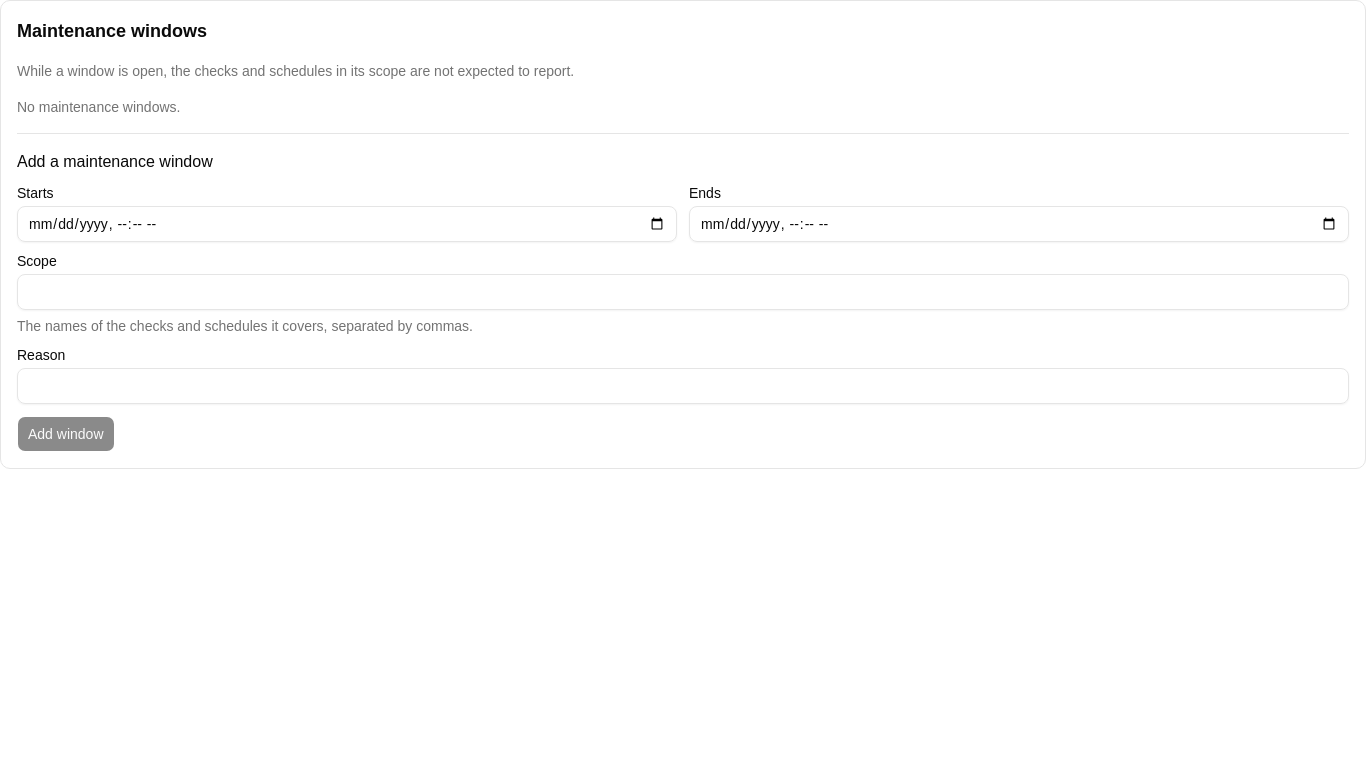
Test: MaintenanceSection › creates a window from the time range, scope and reason, and lists it
Check: the text "No maintenance windows." is shown, box top-left (17, 99), bottom-right (180, 115)
Check: the button "Add window" is disabled, box top-left (17, 416), bottom-right (114, 452)
Type "2026-11-05T08:00" into the field labelled "Starts" at (347, 224), box top-left (17, 206), bottom-right (677, 242)
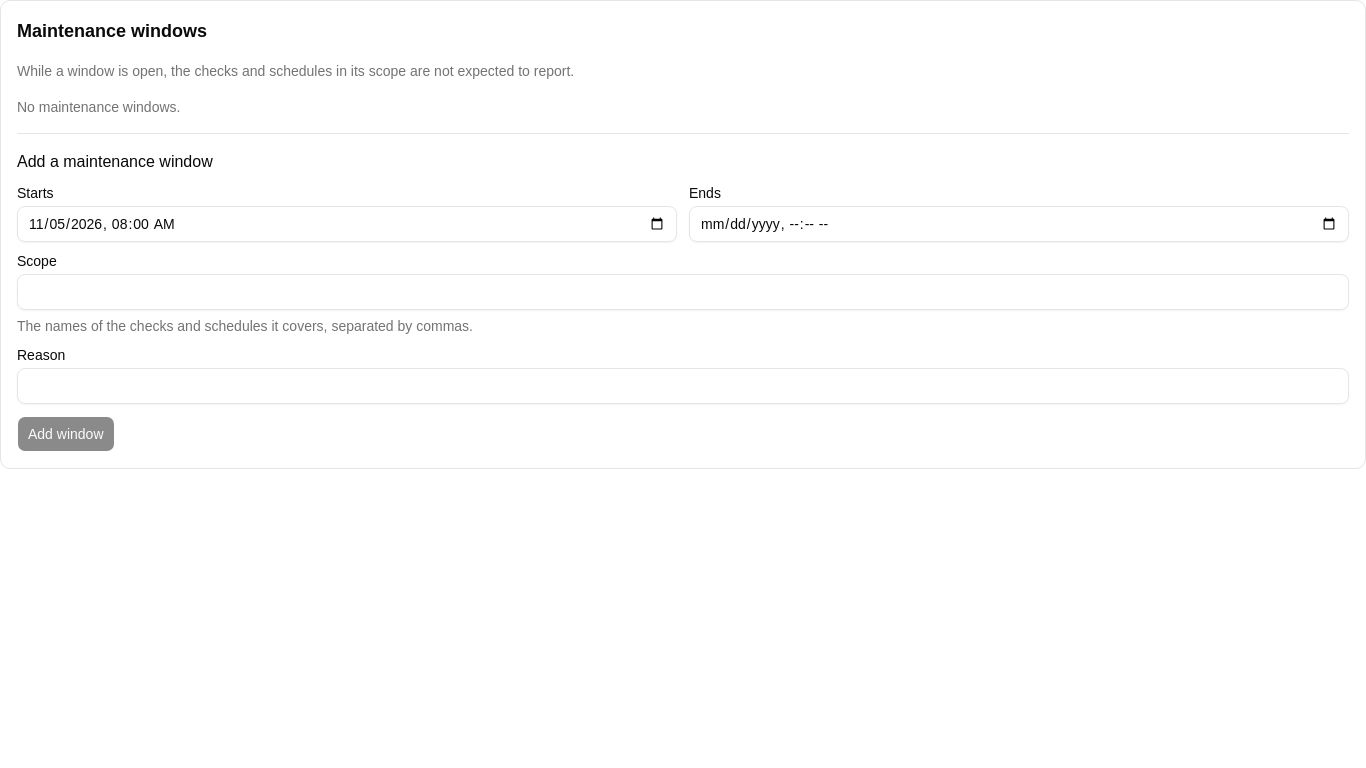
Type "2026-11-05T10:00" into the field labelled "Ends" at (1019, 224), box top-left (689, 206), bottom-right (1349, 242)
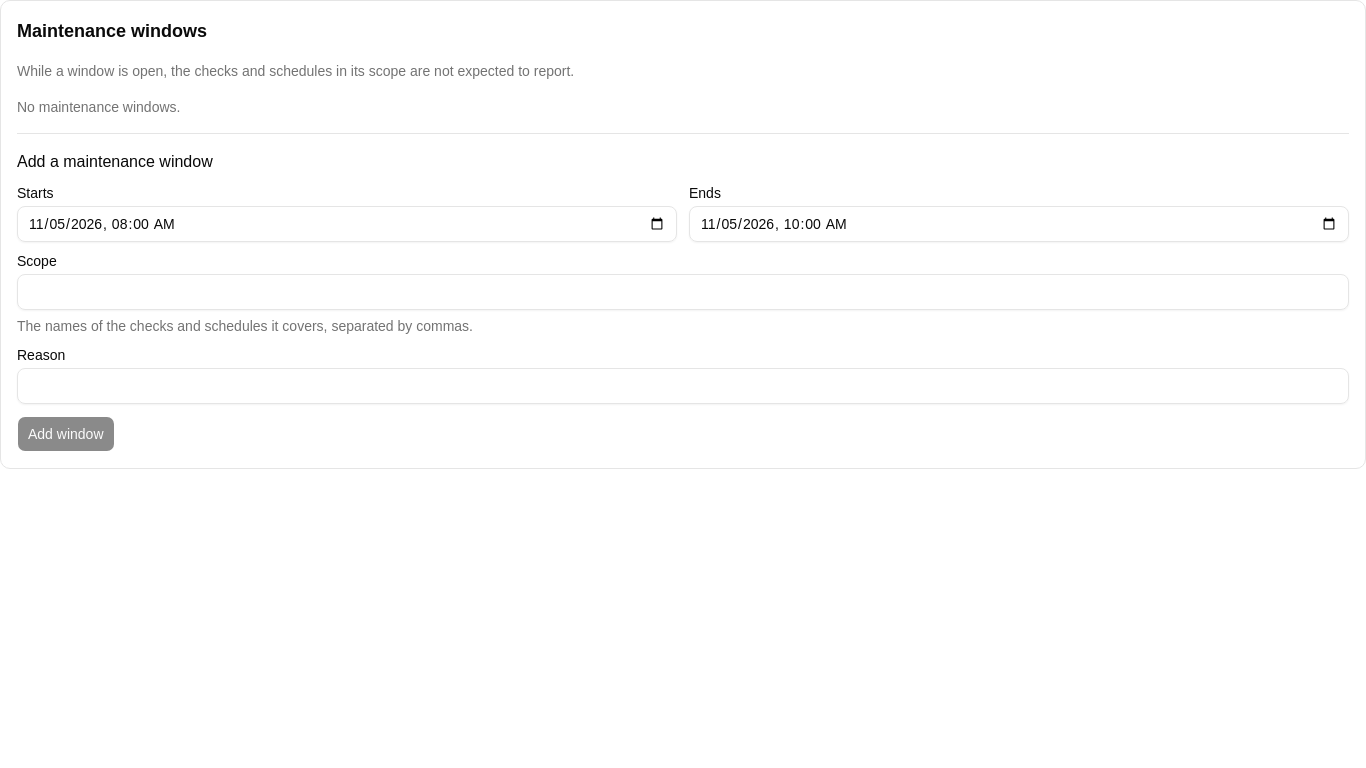
Type "a, b" into the field labelled "Scope" at (683, 292), box top-left (17, 274), bottom-right (1349, 310)
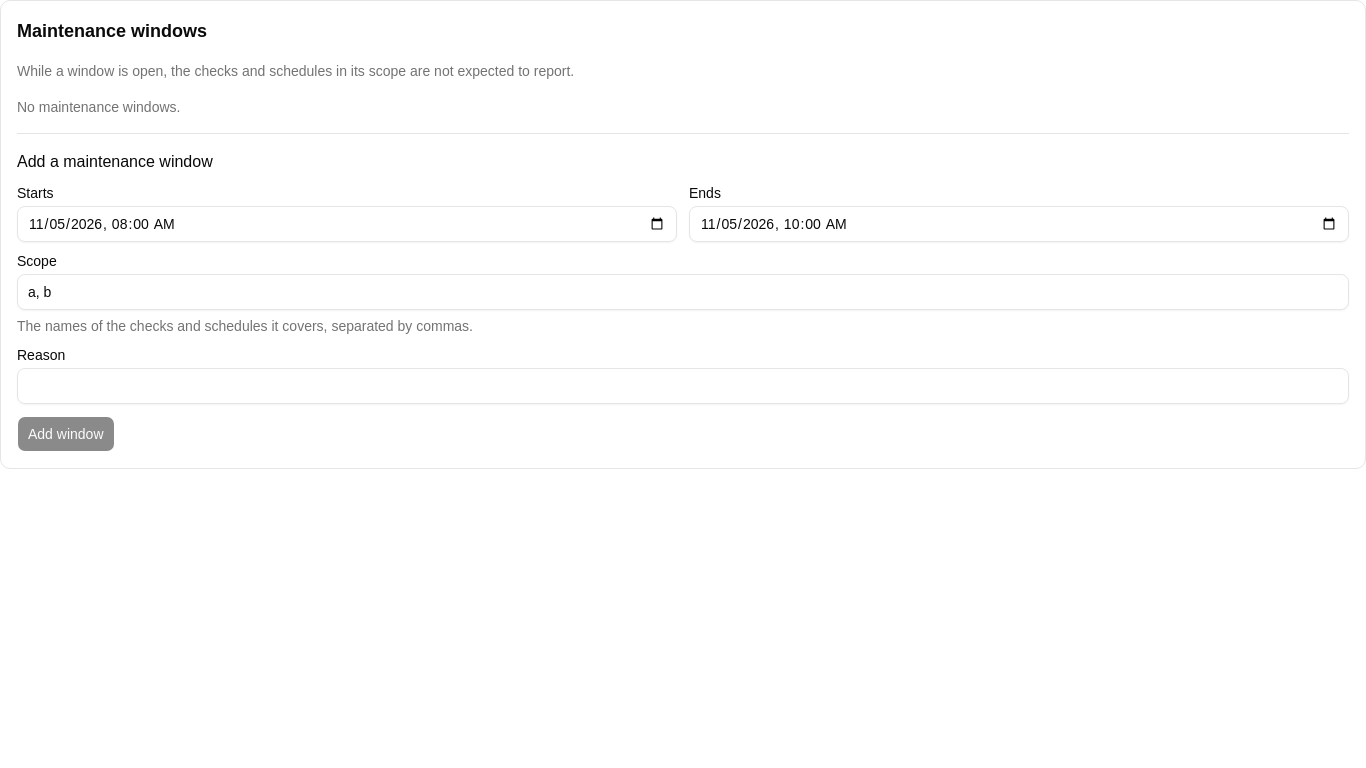
Type "Rotate keys" into the field labelled "Reason" at (683, 386), box top-left (17, 368), bottom-right (1349, 404)
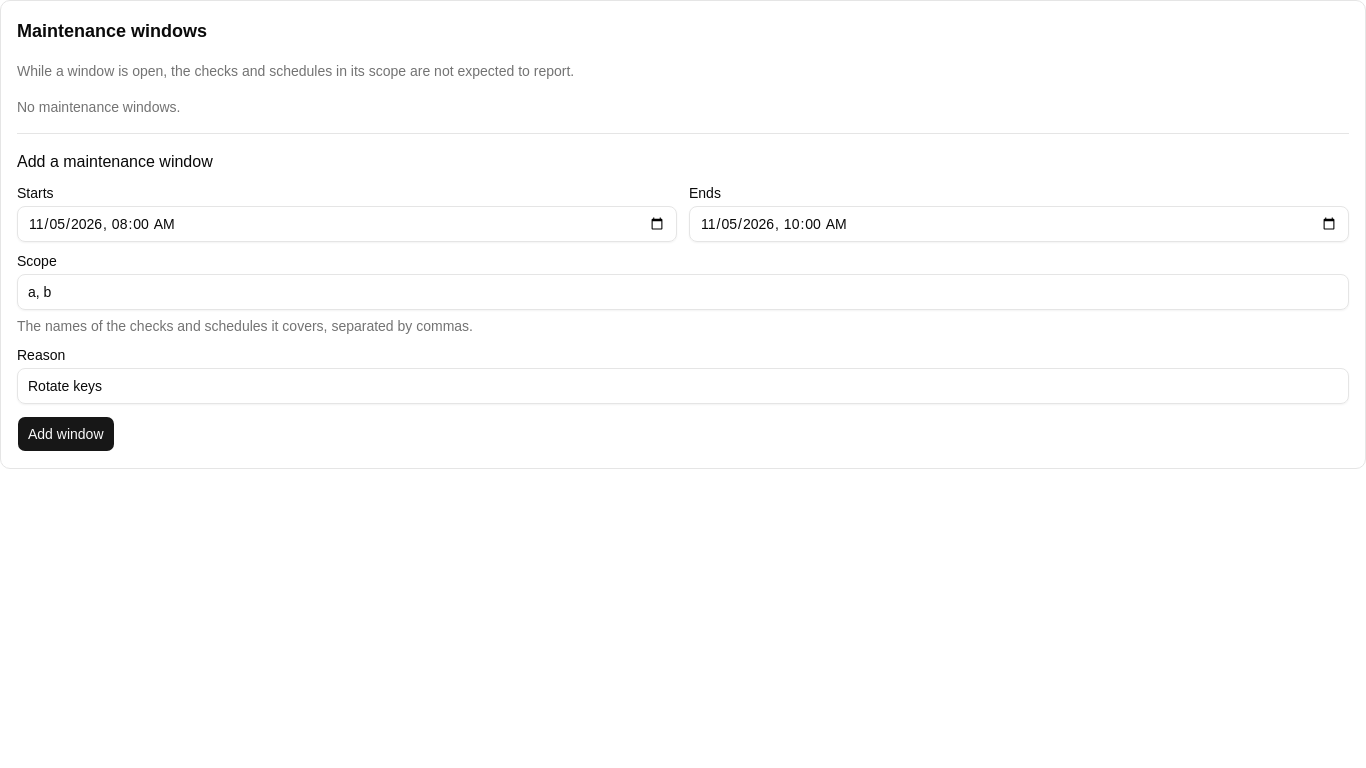
Click the button "Add window" at (66, 434), box top-left (17, 416), bottom-right (114, 452)
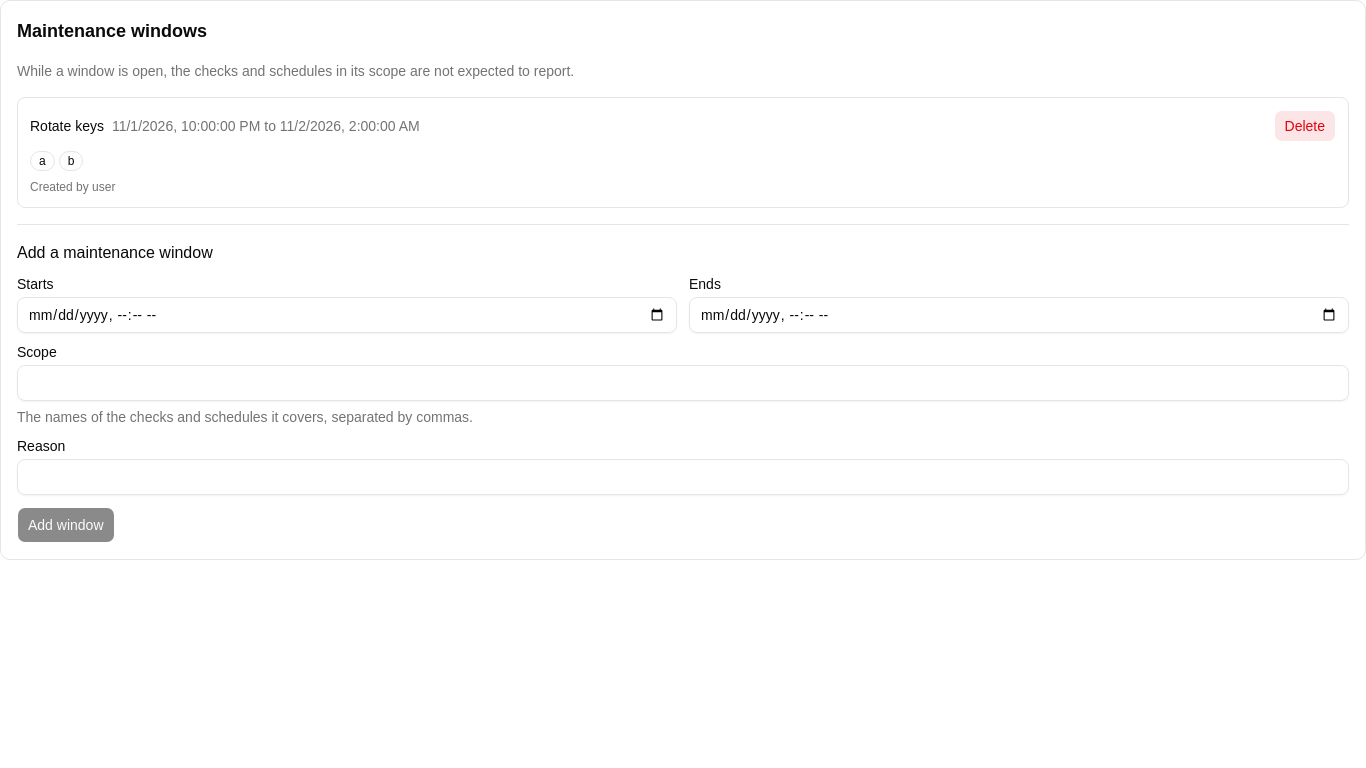
Check: the list item "Rotate keys" is shown, box top-left (17, 97), bottom-right (1349, 208)
Check: the field labelled "Reason" is empty, box top-left (17, 459), bottom-right (1349, 495)
